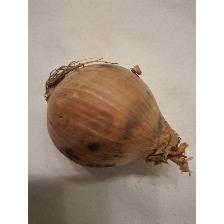Zwiebel: (43, 55, 194, 180)
